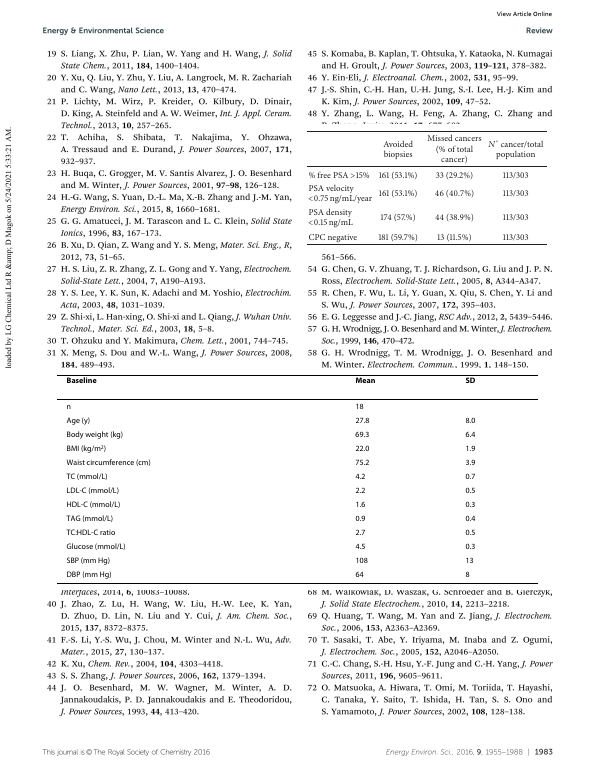borderless: (56, 373, 538, 583), (305, 129, 547, 244)
cell: (426, 134, 483, 165), (307, 183, 373, 206), (487, 135, 544, 160), (307, 207, 354, 230), (307, 166, 371, 182), (66, 458, 152, 468), (382, 139, 414, 160), (66, 542, 127, 552), (66, 430, 124, 440), (307, 232, 358, 243), (66, 500, 121, 510), (66, 486, 120, 496), (66, 528, 116, 538), (66, 514, 114, 524), (377, 232, 419, 243), (66, 570, 112, 580), (434, 188, 475, 199), (434, 212, 475, 223), (66, 556, 111, 566), (378, 188, 418, 199), (66, 472, 108, 482), (66, 444, 107, 454), (380, 212, 417, 223), (436, 232, 473, 243), (378, 170, 418, 180), (435, 170, 474, 180), (502, 188, 530, 199), (502, 212, 530, 223), (502, 232, 530, 243), (502, 170, 530, 180), (66, 376, 98, 384), (66, 416, 91, 426), (354, 376, 376, 384), (354, 416, 370, 426), (354, 430, 370, 440), (354, 444, 370, 454), (354, 458, 370, 468), (354, 556, 369, 566), (464, 416, 476, 426), (464, 430, 476, 440), (464, 444, 476, 454), (464, 458, 476, 468), (354, 472, 366, 482), (464, 472, 476, 482), (354, 486, 366, 496), (464, 486, 476, 496), (354, 500, 366, 510), (464, 500, 476, 510), (354, 514, 366, 524), (464, 514, 476, 524), (354, 528, 366, 538), (464, 528, 476, 538), (354, 542, 366, 552), (354, 402, 365, 412), (465, 542, 476, 552), (464, 556, 475, 566), (354, 570, 365, 580), (464, 376, 476, 384), (464, 570, 471, 580), (66, 402, 72, 412)
